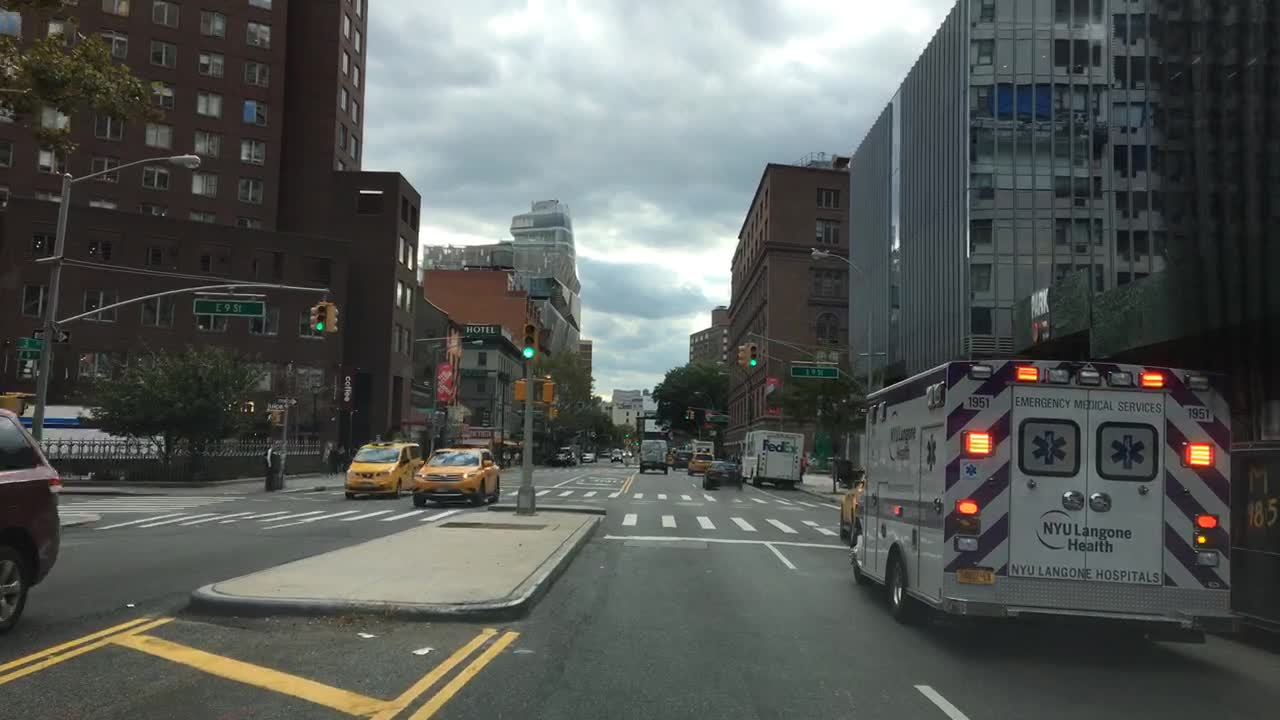car: (849, 360, 1234, 647), (0, 416, 63, 629), (407, 446, 502, 508), (342, 440, 422, 499), (837, 473, 867, 540), (701, 459, 740, 489), (636, 439, 667, 474), (685, 453, 713, 474), (667, 448, 690, 469), (549, 446, 574, 465), (609, 448, 622, 465), (580, 453, 600, 463), (598, 448, 610, 457), (619, 450, 633, 456)
person: (264, 440, 283, 489), (319, 442, 333, 476), (333, 443, 349, 472), (342, 445, 352, 469), (500, 453, 509, 466), (514, 451, 518, 465)
traffic light: (523, 322, 537, 361), (0, 393, 24, 414), (324, 306, 338, 332), (512, 381, 529, 399), (315, 304, 326, 330), (543, 382, 557, 401), (307, 307, 318, 329), (748, 342, 757, 367), (737, 344, 746, 365), (270, 407, 281, 424), (684, 408, 696, 420), (549, 407, 558, 420)
traffic sign: (192, 301, 264, 315), (27, 330, 68, 341), (789, 367, 838, 376), (13, 338, 44, 350), (273, 397, 294, 405), (416, 407, 434, 414)
truck: (739, 431, 805, 486), (687, 439, 713, 454)
